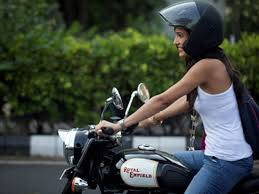with_helmet: (168, 1, 224, 33)
